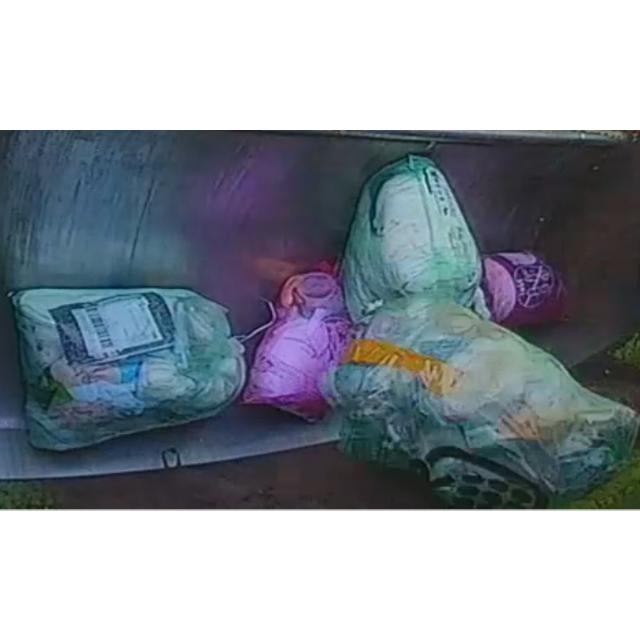general_trashbag: (335, 300, 638, 505), (12, 288, 245, 448), (341, 154, 481, 323)
other_trashbag: (242, 270, 351, 422), (482, 252, 566, 325)
